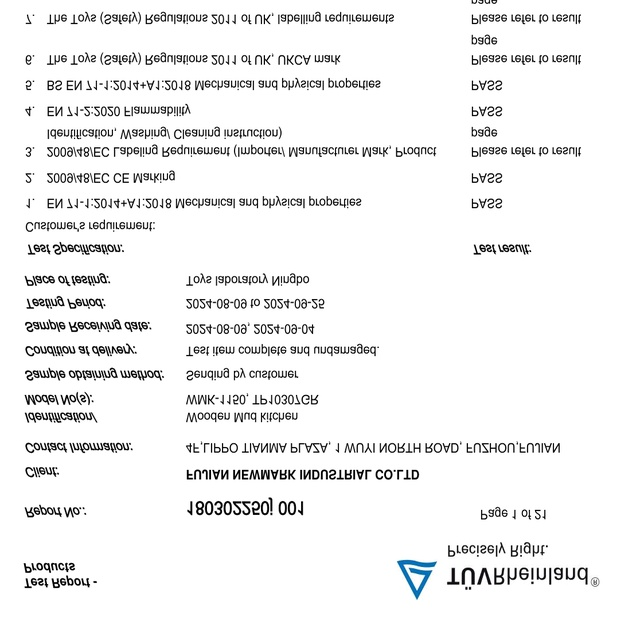tuv_rheinland: (394, 556, 605, 600)
